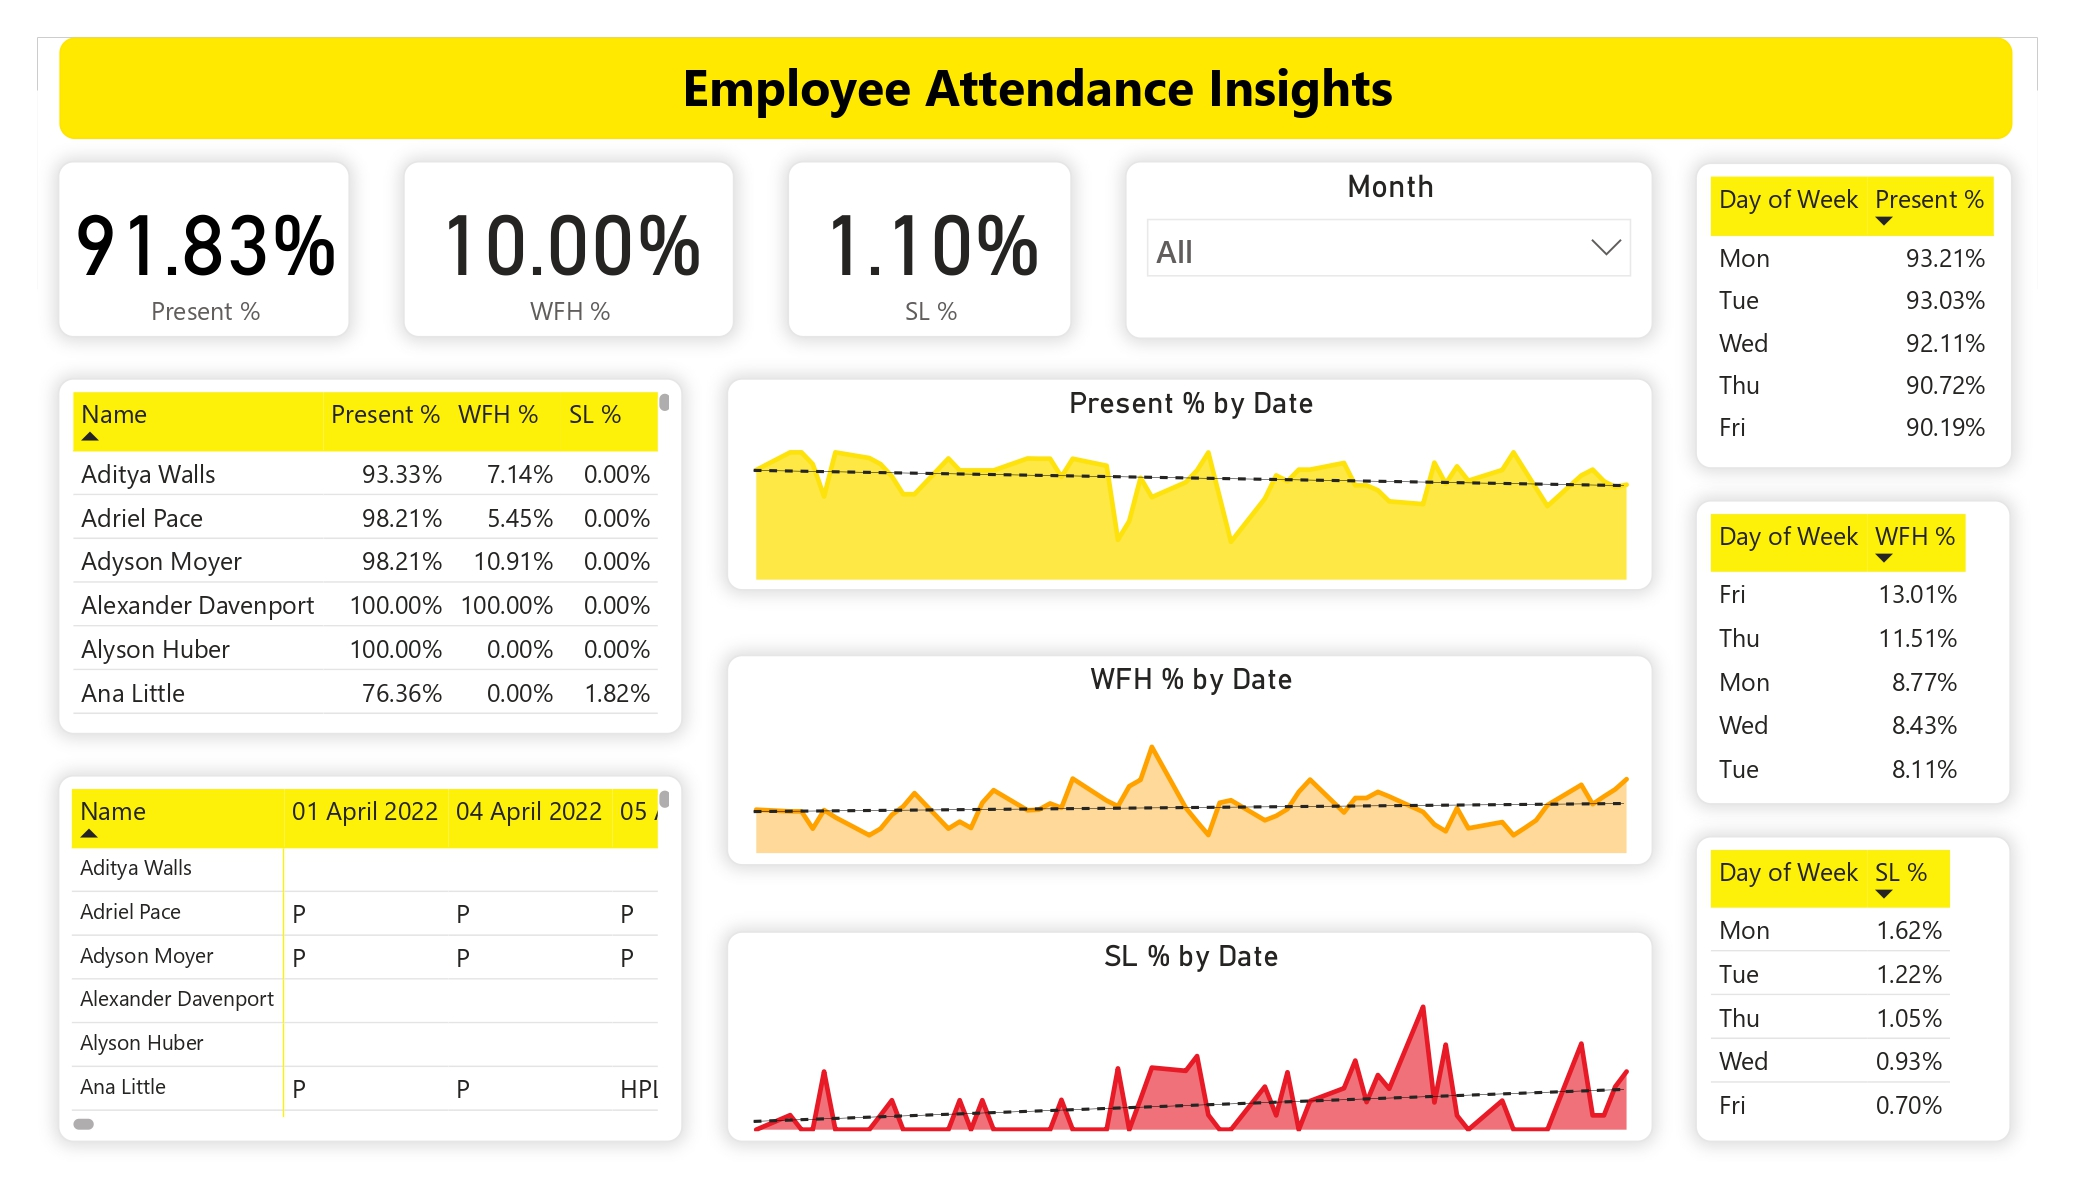

What the dashboard file says about the page in this screenshot:
{"tool":"powerbi","page":{"name":"Page 1","canvas":[1280,720],"ordinal":0},"visuals":[{"type":"card","fields":{"Values":["Measure.Present %"]},"box":[12.7,78.9,187.3,112.7],"z":0},{"type":"slicer","title":"Month","fields":{"Values":["Finall Data.Month"]},"box":[695.6,79.4,338.2,113.2],"z":1000},{"type":"card","fields":{"Values":["Measure.WFH %"]},"box":[234.3,78.9,211.3,112.7],"z":2000},{"type":"card","fields":{"Values":["Measure.SL %"]},"box":[479.8,78.9,181.7,112.7],"z":3000},{"type":"tableEx","fields":{"Values":["Finall Data.Name","Measure.Present %","Measure.WFH %","Measure.SL %"]},"box":[12.7,217.6,400,228.2],"z":4000},{"type":"pivotTable","fields":{"Rows":["Finall Data.Name"],"Values":["Min(Finall Data.Value)"],"Columns":["Finall Data.Date"]},"box":[12.7,471.8,400,235.2],"z":5000},{"type":"areaChart","fields":{"Y":["Measure.Present %"],"Category":["Finall Data.Date"]},"box":[440.8,218.3,593,135.2],"z":6000},{"type":"areaChart","fields":{"Y":["Measure.WFH %"],"Category":["Finall Data.Date"]},"box":[440.8,395.1,593,135.2],"z":7000},{"type":"areaChart","fields":{"Y":["Measure.SL %"],"Category":["Finall Data.Date"]},"box":[440.8,571.8,593,135.2],"z":8000},{"type":"tableEx","fields":{"Values":["Finall Data.Day of Week","Measure.Present %"]},"box":[1060,22.8,201.8,194.5],"z":9000,"group":"g1"},{"type":"textbox","box":[13.8,0,1020,64.6],"z":10000},{"type":"tableEx","fields":{"Values":["Finall Data.Day of Week","Measure.WFH %"]},"box":[1060.6,261.5,202.8,195.8],"z":11000,"group":"g1"},{"type":"tableEx","fields":{"Values":["Finall Data.Day of Week","Measure.SL %"]},"box":[1060.6,501.3,202.8,195.8],"z":12000,"group":"g1"},{"type":"group","id":"g1","title":"Group 1","box":[1060,22.8,203.4,674.3],"z":12001}]}

Visuals, with their boxes on the page's 1280x720 design canvas (x1, y1, x2, y2). These are canvas units, not pixel positions in the 2075x1200 screenshot, which may show the page scaled, cropped or inside an application window:
card - Measure.Present %: x1=13, y1=79, x2=200, y2=192
"Month" slicer: x1=696, y1=79, x2=1034, y2=193
card - Measure.WFH %: x1=234, y1=79, x2=446, y2=192
card - Measure.SL %: x1=480, y1=79, x2=662, y2=192
tableEx - Finall Data.Name x Measure.Present %: x1=13, y1=218, x2=413, y2=446
pivotTable - Finall Data.Name x Min(Finall Data.Value): x1=13, y1=472, x2=413, y2=707
areaChart - Measure.Present % x Finall Data.Date: x1=441, y1=218, x2=1034, y2=354
areaChart - Measure.WFH % x Finall Data.Date: x1=441, y1=395, x2=1034, y2=530
areaChart - Measure.SL % x Finall Data.Date: x1=441, y1=572, x2=1034, y2=707
tableEx - Finall Data.Day of Week x Measure.Present %: x1=1060, y1=23, x2=1262, y2=217
textbox: x1=14, y1=0, x2=1034, y2=65
tableEx - Finall Data.Day of Week x Measure.WFH %: x1=1061, y1=262, x2=1263, y2=457
tableEx - Finall Data.Day of Week x Measure.SL %: x1=1061, y1=501, x2=1263, y2=697
"Group 1" group: x1=1060, y1=23, x2=1263, y2=697
